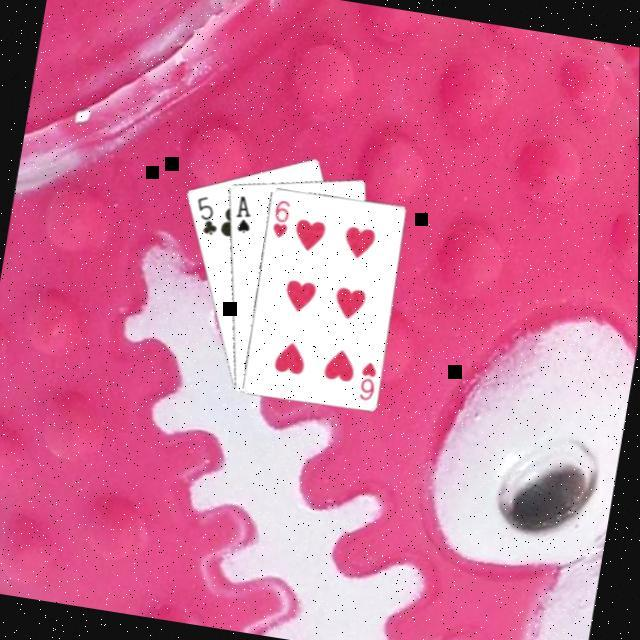5C: (191, 190, 228, 238)
6H: (269, 193, 296, 240), (357, 356, 383, 402)
AS: (232, 189, 260, 235)
